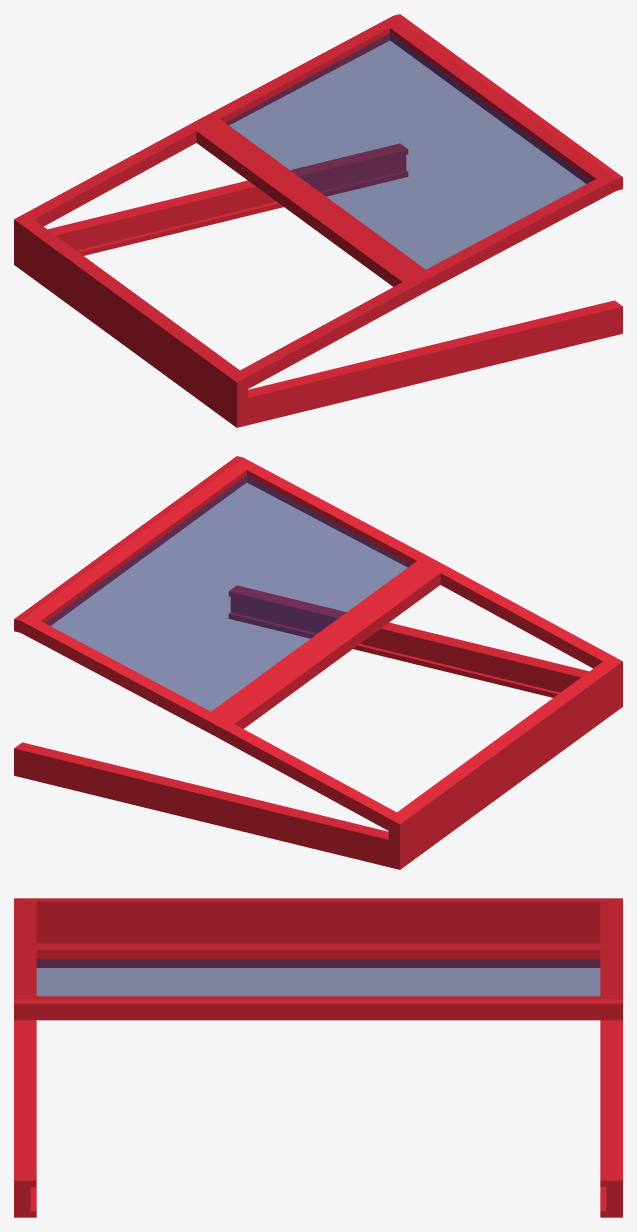
Rendered from Claraboia.C.fbx.
3 renders of one model, top to bottom at view 1: azimuth 30°, elevation 25°; view 2: azimuth 150°, elevation 25°; view 3: azimuth 270°, elevation 25°, orthographic. The views are drawn at different scales.
Visible parts, largest first — view 1: Claraboia.C; view 2: Claraboia.C; view 3: Claraboia.C.
Part boxes in pixels (box(x1,y1,x2,y2)): Claraboia.C: box(14, 14, 622, 427); Claraboia.C: box(14, 456, 622, 869); Claraboia.C: box(14, 898, 622, 1217).
Size of the model in its own units: 400 by 155 by 400.
